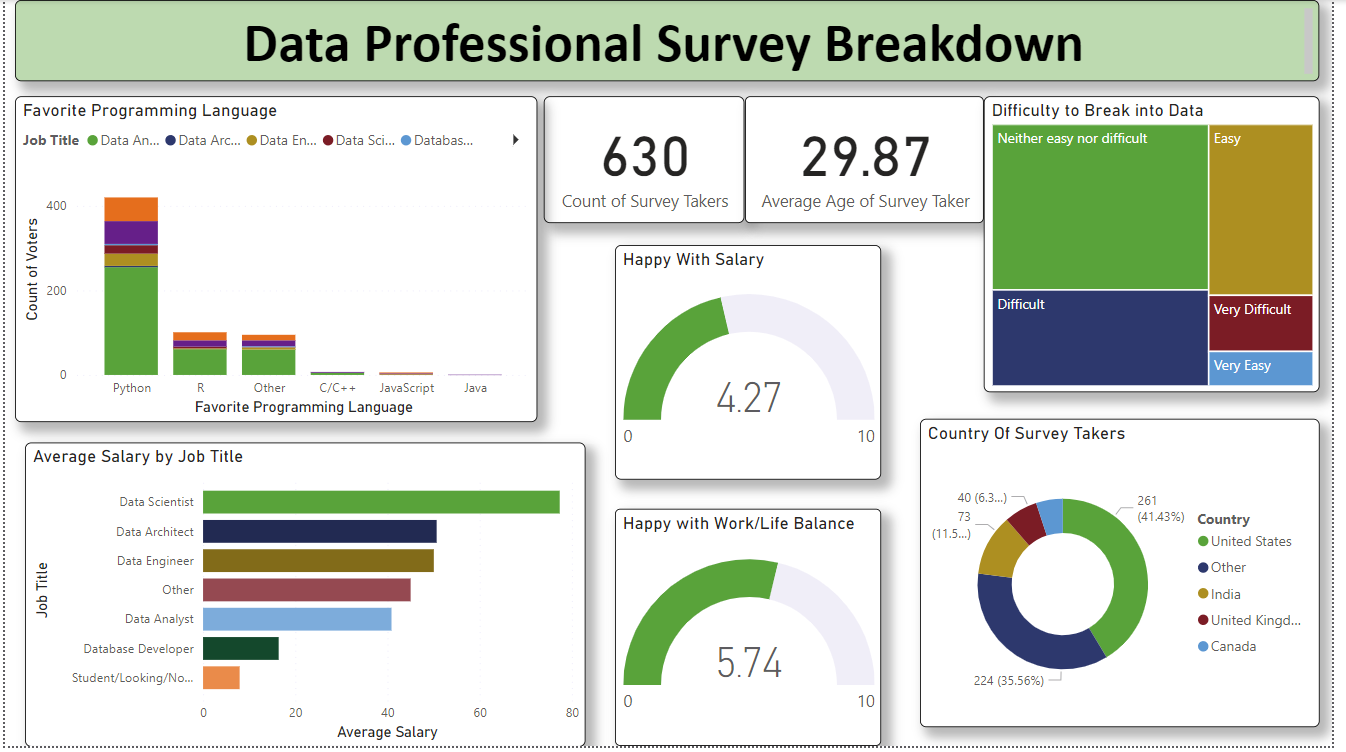

The page's visual inventory and layout, read from the dashboard file:
{"tool":"powerbi","page":{"name":"Page 1","canvas":[1280,720],"ordinal":0},"visuals":[{"type":"textbox","box":[9.6,0,1258.3,78.2],"z":0},{"type":"card","fields":{"Values":["Count(Data Professional Survey.Unique ID)"]},"box":[513.8,92.9,184.5,111],"z":1000},{"type":"card","fields":{"Values":["Avg(Data Professional Survey.Q10 - Current Age)"]},"box":[706.7,92.9,237.6,111],"z":2000},{"type":"barChart","fields":{"Category":["Data Professional Survey.Q1 - Which Title Best Fits your Current Role?.1"],"Y":["Avg(Data Professional Survey.Q3 - Current Yearly Salary (in USD) - Copy.1)"]},"box":[19.2,426.8,540.7,293.7],"z":3000},{"type":"columnChart","title":"Favorite Programming Language","fields":{"Category":["Data Professional Survey.Q5 - Favorite Programming Language.1"],"Y":["CountNonNull(Data Professional Survey.Unique ID)"],"Series":["Data Professional Survey.Q1 - Which Title Best Fits your Current Role?.1"]},"box":[9.6,93.3,503.6,314.2],"z":4000},{"type":"donutChart","title":"Country Of Survey Takers","fields":{"Category":["Data Professional Survey.Q11 - Which Country do you live in?.1"],"Y":["CountNonNull(Data Professional Survey.Q11 - Which Country do you live in?.1)"]},"box":[882.3,403.4,385.6,297.8],"z":5000},{"type":"treemap","title":"Difficulty to Break into Data","fields":{"Group":["Data Professional Survey.Q7 - How difficult was it for you to break into Data?"],"Values":["CountNonNull(Data Professional Survey.Q7 - How difficult was it for you to break into Data?)"]},"box":[944.1,93.3,323.8,285.4],"z":6000},{"type":"gauge","title":"Happy with Work/Life Balance","fields":{"Y":["Avg(Data Professional Survey.Q6 - How Happy are you in your Current Position with the following? (Work/Life Balance))"],"MinValue":["Min(Data Professional Survey.Q6 - How Happy are you in your Current Position with the following? (Work/Life Balance))"],"MaxValue":["Max(Data Professional Survey.Q6 - How Happy are you in your Current Position with the following? (Work/Life Balance))"]},"box":[588.7,491.3,256.6,229.2],"z":7000},{"type":"gauge","title":"Happy With Salary","fields":{"Y":["Avg(Data Professional Survey.Q6 - How Happy are you in your Current Position with the following? (Salary))"],"MinValue":["Min(Data Professional Survey.Q6 - How Happy are you in your Current Position with the following? (Salary))"],"MaxValue":["Max(Data Professional Survey.Q6 - How Happy are you in your Current Position with the following? (Salary))"]},"box":[588.7,236,256.6,226.4],"z":8000}]}

Visuals, with their boxes in screenshot pixels (x1, y1, x2, y2), scaled from the page's 1280x720 canvas onto the 1346x752 screenshot:
textbox: 10/0/1333/82
card - Count(Data Professional Survey.Unique ID): 540/97/734/213
card - Avg(Data Professional Survey.Q10 - Current Age): 743/97/993/213
barChart - Data Professional Survey.Q1 - Which Title Best Fits your Current Role?.1 x Avg(Data Professional Survey.Q3 - Current Yearly Salary (in USD) - Copy.1): 20/446/589/751
"Favorite Programming Language" columnChart: 10/97/540/426
"Country Of Survey Takers" donutChart: 928/421/1333/732
"Difficulty to Break into Data" treemap: 993/97/1333/396
"Happy with Work/Life Balance" gauge: 619/513/889/751
"Happy With Salary" gauge: 619/246/889/483
